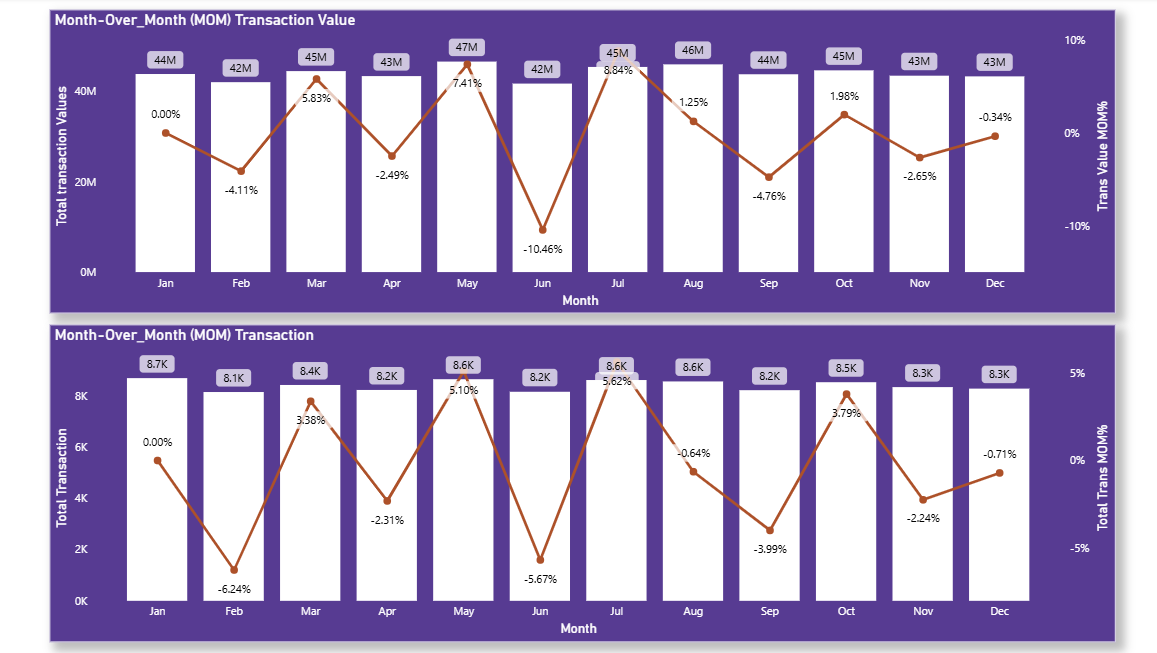

What the dashboard file says about the page in this screenshot:
{"tool":"powerbi","page":{"name":"MOM ","canvas":[1280,720],"ordinal":1},"visuals":[{"type":"lineStackedColumnComboChart","title":"Month-Over_Month (MOM) Transaction Value ","fields":{"Y":["Measures (2).Total transaction Values"],"Category":["Date_Table.Month"],"Y2":["Measures (2).Trans Value MOM%"]},"box":[57.6,13.7,1170.5,333.4],"z":0},{"type":"lineStackedColumnComboChart","title":"Month-Over_Month (MOM) Transaction ","fields":{"Category":["Date_Table.Month"],"Y2":["Measures (2).Total Trans MOM%"],"Y":["Measures (2).Total Transaction"]},"box":[57.6,359.5,1170.5,348.5],"z":1000}]}

Visuals, with their boxes in screenshot pixels (x1, y1, x2, y2), scaled from the page's 1280x720 canvas onto the 1157x653 screenshot:
"Month-Over_Month (MOM) Transaction Value " lineStackedColumnComboChart: {"left": 52, "top": 12, "right": 1110, "bottom": 315}
"Month-Over_Month (MOM) Transaction " lineStackedColumnComboChart: {"left": 52, "top": 326, "right": 1110, "bottom": 642}
